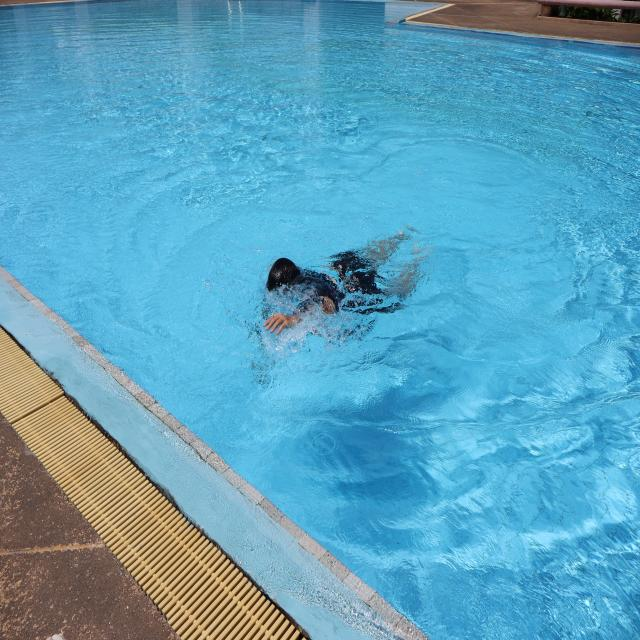Swimming: (262, 228, 427, 336)
